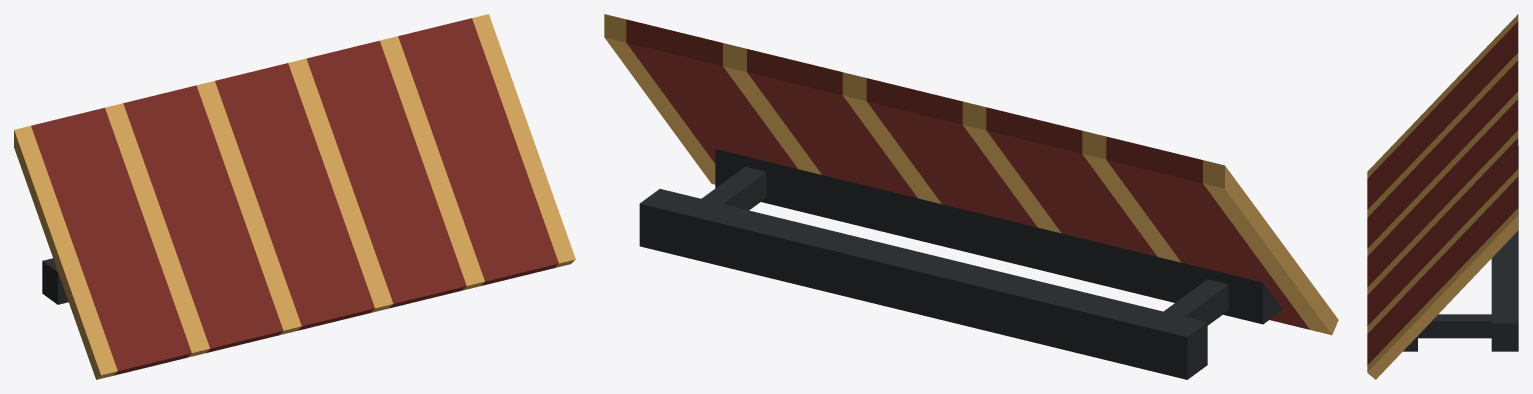
The model's file is SM_Bld_Awning_03_Small.obj.
3 views of the same model, side by side, from view 1: azimuth 30°, elevation 25°; view 2: azimuth 150°, elevation 25°; view 3: azimuth 270°, elevation 25° (orthographic). The views are drawn at different scales.
Parts seen in each view (by area): view 1: SM_Bld_Awning_03_Small_0; view 2: SM_Bld_Awning_03_Small_0; view 3: SM_Bld_Awning_03_Small_0.
Part boxes in pixels (x1=…): SM_Bld_Awning_03_Small_0: x1=14, y1=14, x2=575, y2=379; SM_Bld_Awning_03_Small_0: x1=604, y1=14, x2=1338, y2=379; SM_Bld_Awning_03_Small_0: x1=1367, y1=14, x2=1518, y2=379.
Bounding box in the file's own units: 1.51 × 0.5791 × 0.482.
1 material, 1 textured.
